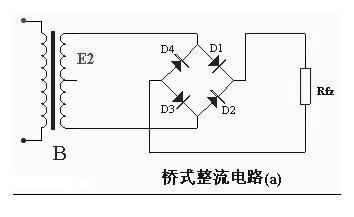bridge: (157, 42, 237, 122)
res1: (297, 67, 314, 108)
trans: (33, 26, 74, 136)
